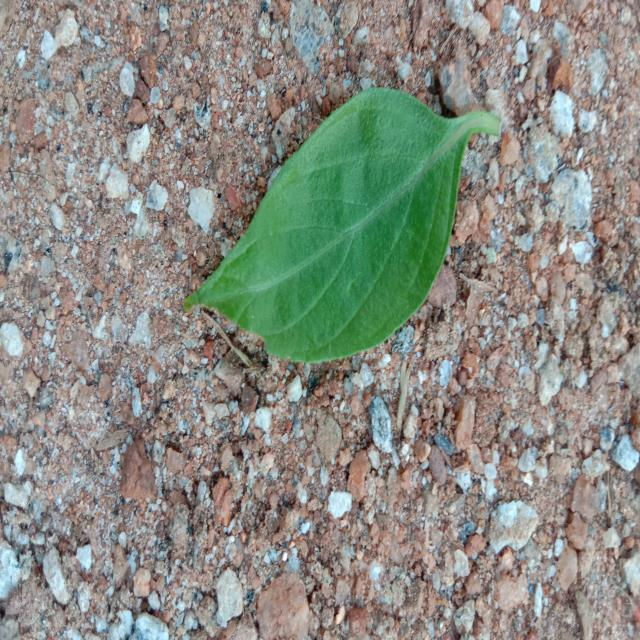kamakasturi: (185, 88, 500, 363)
